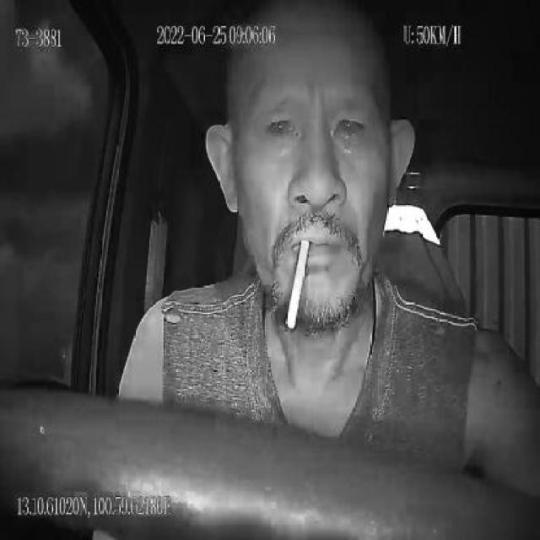smoking: (285, 235, 310, 329)
